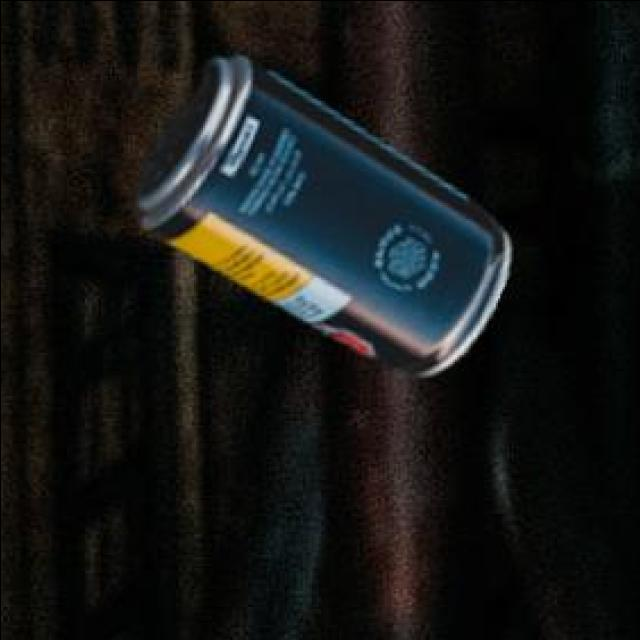logam: (135, 58, 505, 376)
